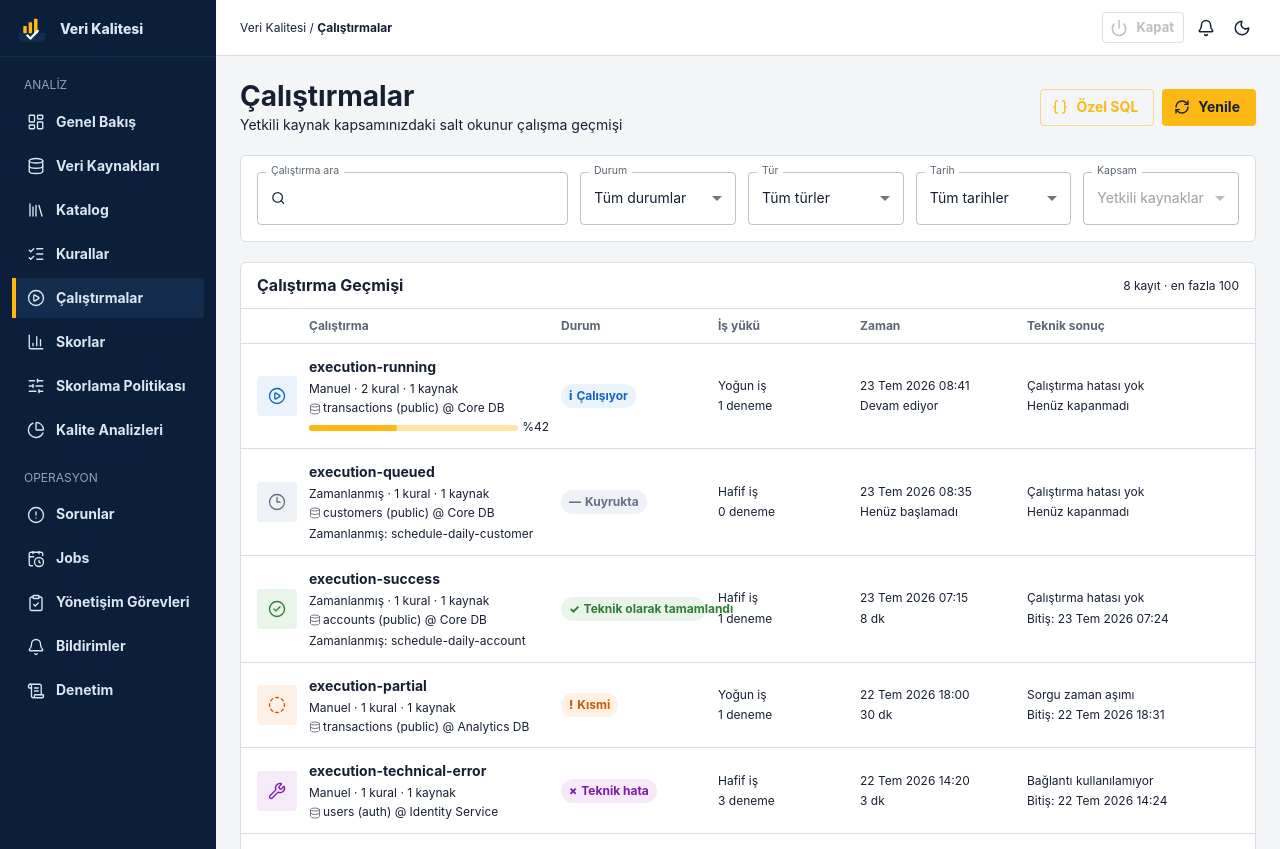
Test: Çalıştırmalar ekranı › Özel SQL dialog'unda SELECT ile başlamayan SQL hata verir
Click the button "Özel SQL" at (1097, 107), box x1=1040 y1=89 x2=1154 y2=126
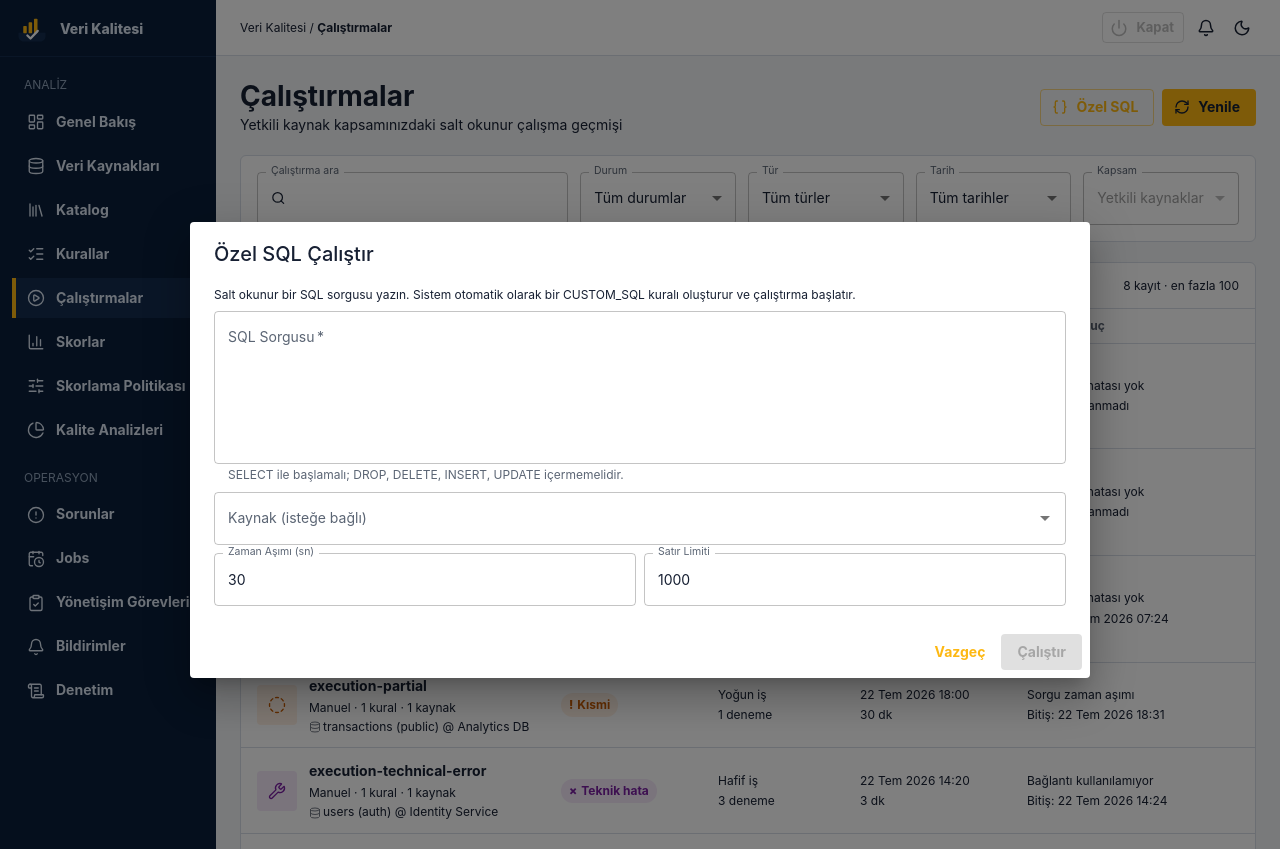
Type "INSERT INTO x VALUES (1)" into the text box with placeholder "SELECT ... -- Salt okunur SQL sorgusunu giriniz" at (640, 387), box x1=228 y1=327 x2=1052 y2=447
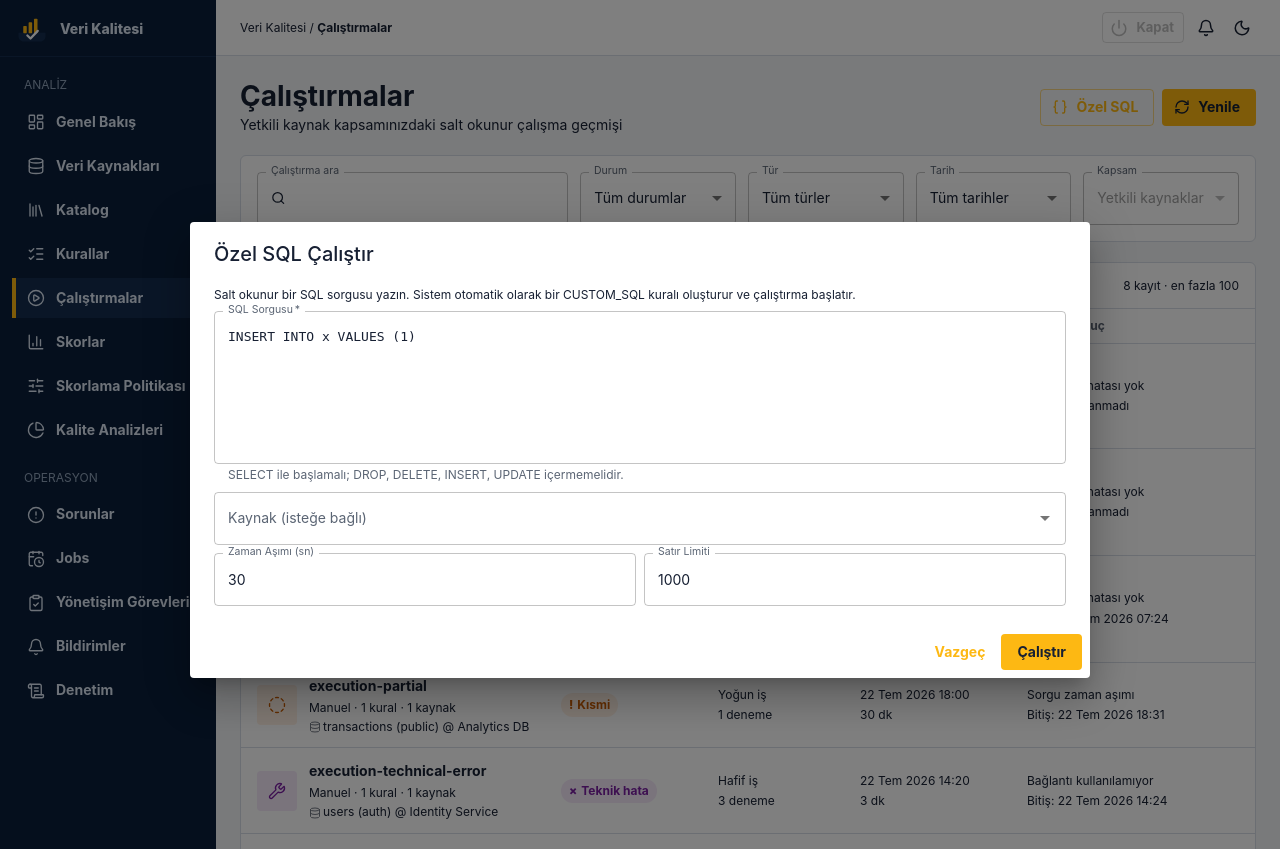
Click the button "Çalıştır" at (1042, 652), box x1=1002 y1=634 x2=1082 y2=670
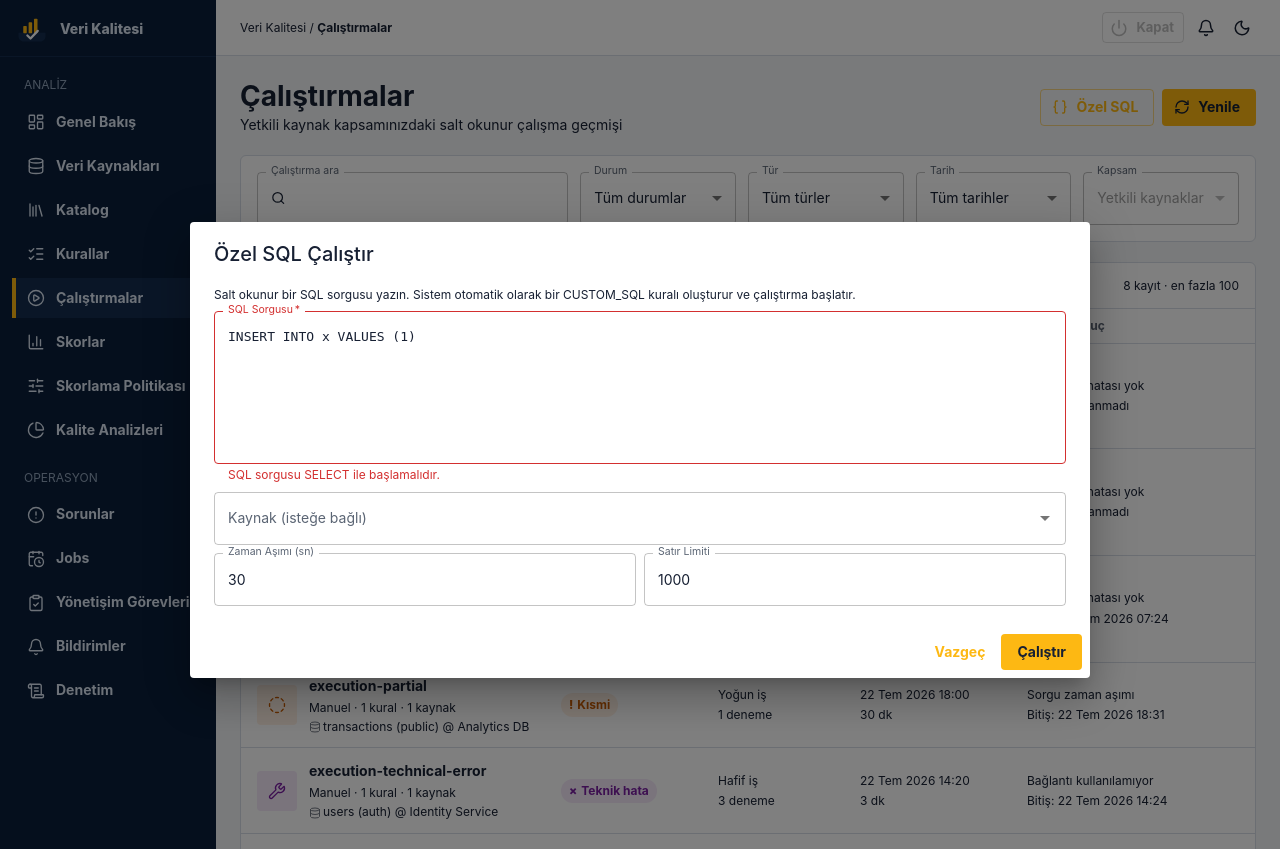
expect the text "SQL sorgusu SELECT ile başlamalıdır." is shown: met, box x1=228 y1=467 x2=440 y2=482
